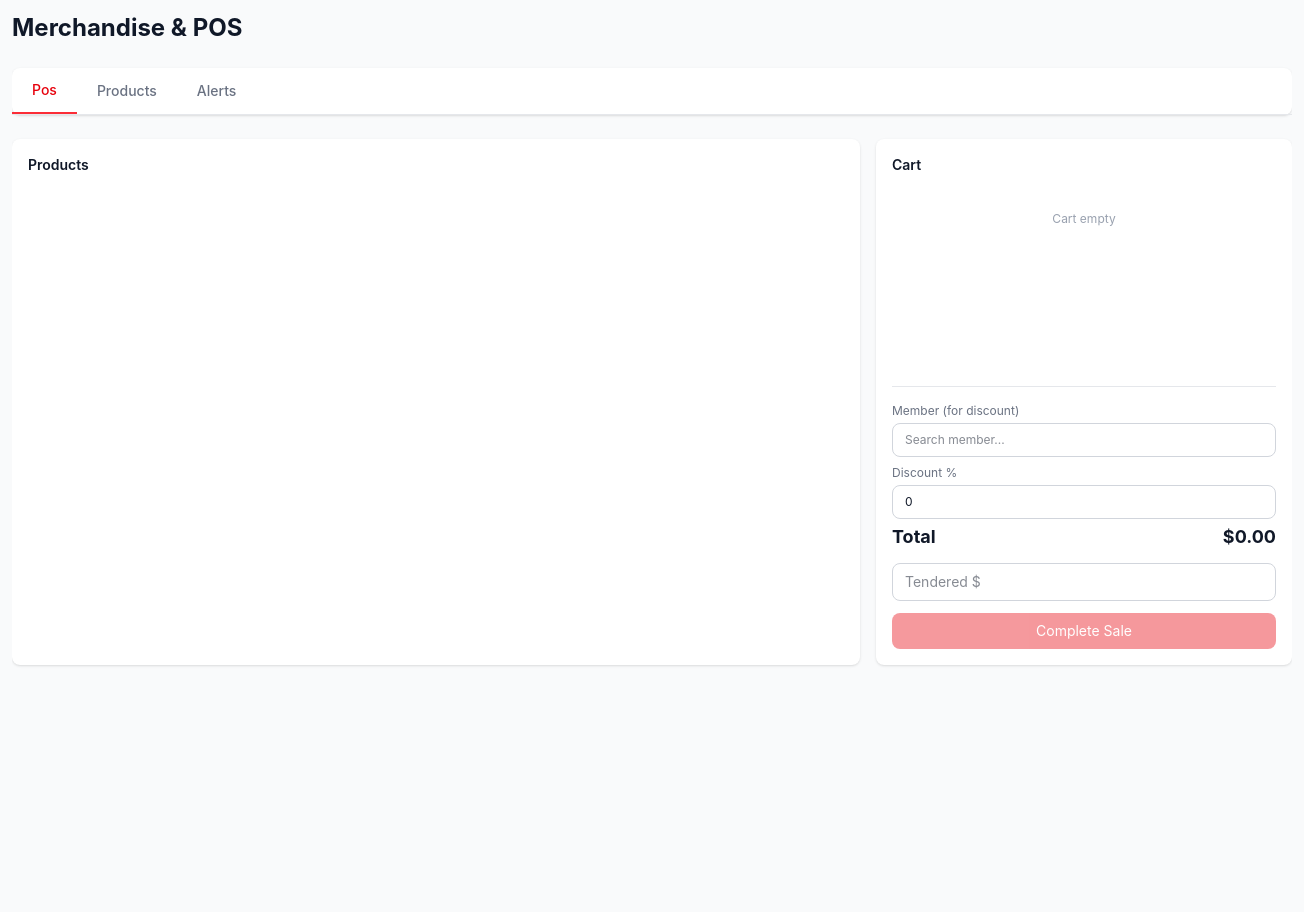
Test: POS Page › shows empty state in products tab
This screenshot has width=1304, height=912.
Click the button "products" at (127, 91), box [77, 68, 177, 114]
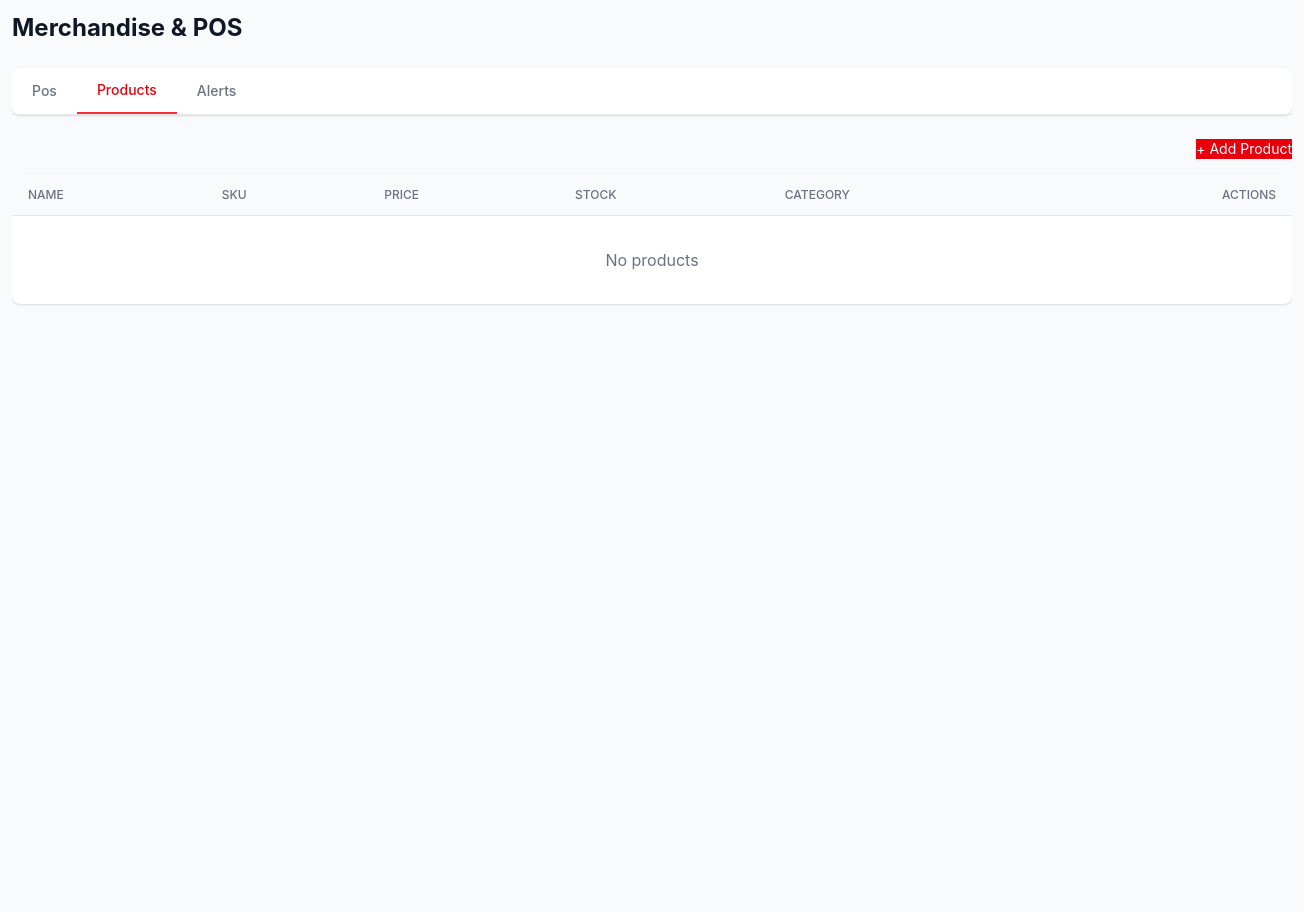
Expected: the text "No products" is shown, [12, 216, 1292, 304]
